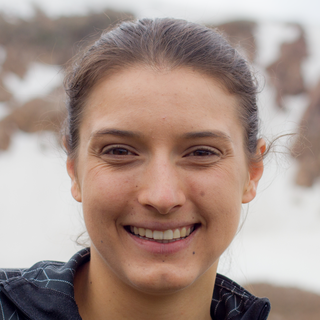eye: (94, 140, 144, 165), (178, 141, 227, 165)
